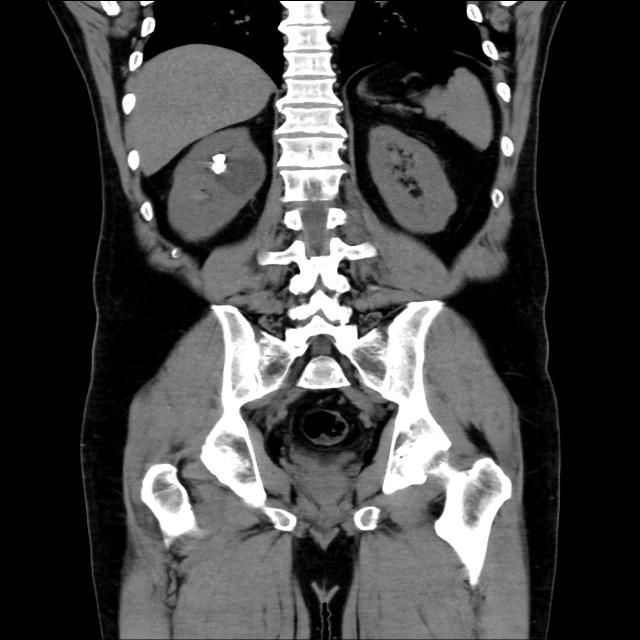kidneystone: (212, 154, 226, 174)
